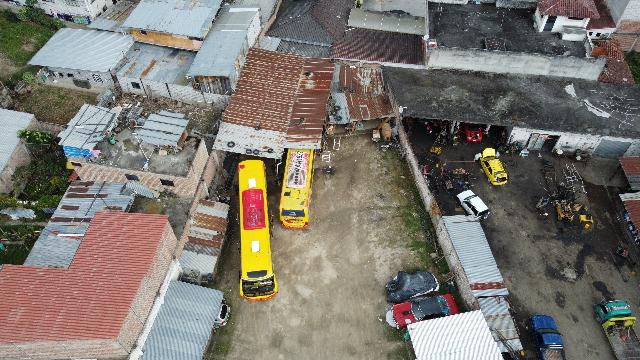Vehiculo: (385, 294, 459, 330), (526, 314, 566, 360), (478, 148, 508, 186), (456, 190, 489, 220), (593, 300, 631, 324), (214, 302, 230, 332)
